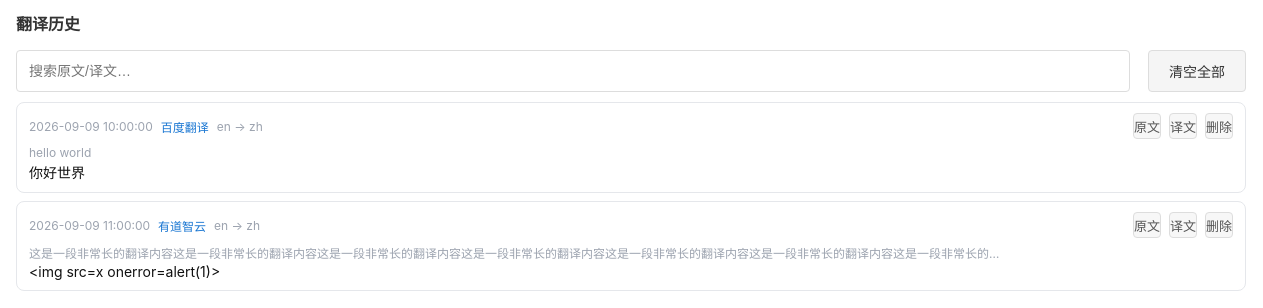
Test: HistoryPanel（翻译历史页） › 功能: 关键词搜索过滤原文/译文
The image size is (1263, 308).
Expected: the text "hello world" is shown, [29,145,91,160]
"世界"只命中第一条的译文"你好世界"
In the field with placeholder "搜索原文/译文…": (573, 71) [16,50,1130,92], type "世界"
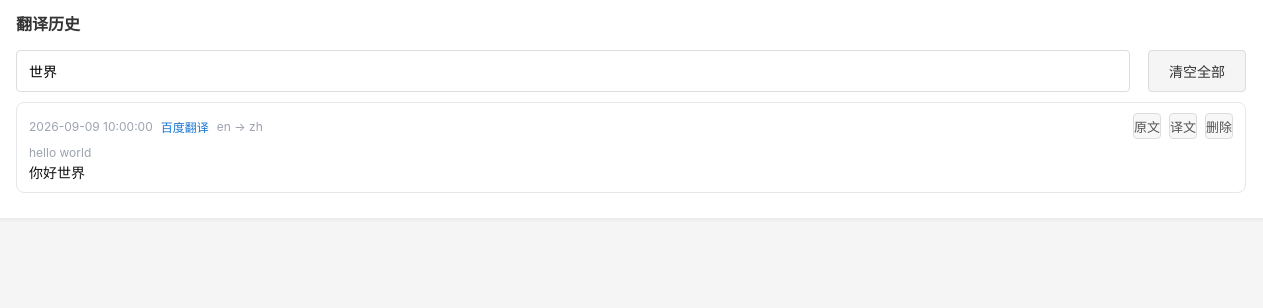
Expected: the text "hello world" is shown, [29,145,91,160]
Expected: the text "这是一段非常长的翻译内容" is gone
